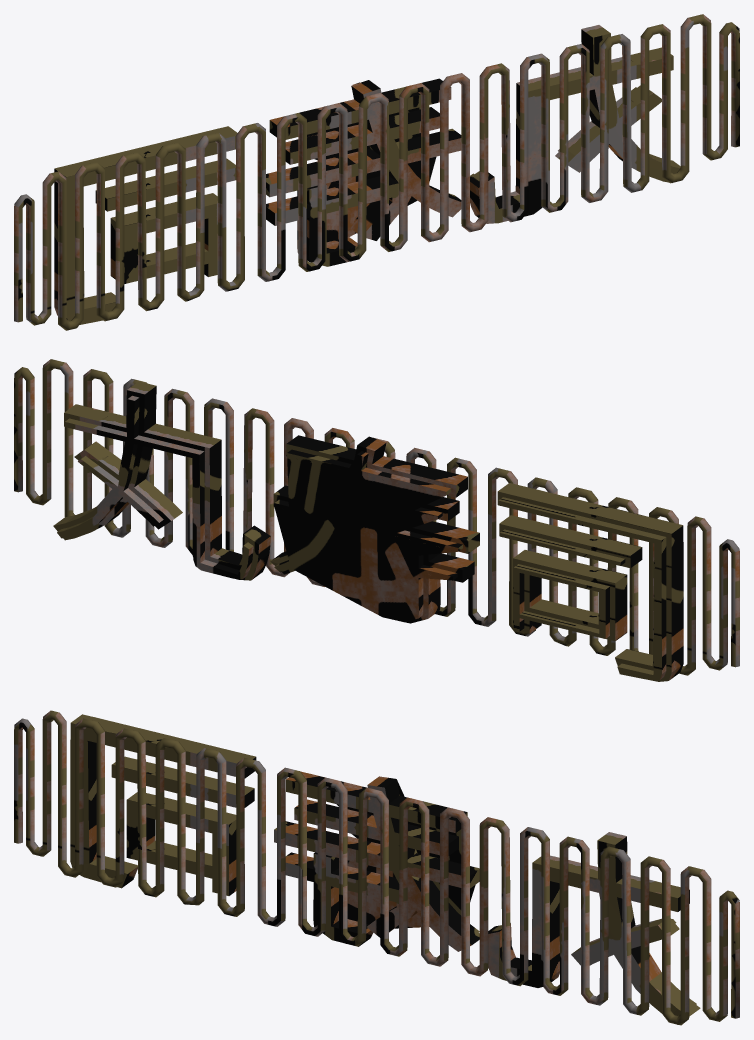
File: Letreiro2.fbx
The picture shows the model from 3 angles, top to bottom: view 1: azimuth 30°, elevation 25°; view 2: azimuth 150°, elevation 25°; view 3: azimuth 330°, elevation 25°; orthographic projection.
Parts seen in each view (by area): view 1: Plane.001; view 2: Plane.001; view 3: Plane.001.
Part boxes in pixels (left/top/right/bottom): Plane.001: left=14, top=14, right=739, bottom=330; Plane.001: left=14, top=359, right=739, bottom=681; Plane.001: left=14, top=710, right=739, bottom=1025.
Bounding box in the file's own units: 885 × 194 × 45.18.
Materials: 1 (1 with a texture image).
